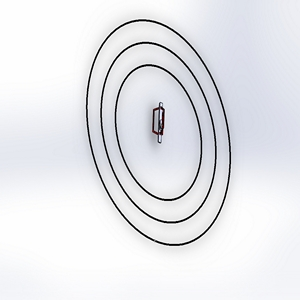circle: (74, 13, 236, 252)
submarine: (144, 96, 176, 156)
